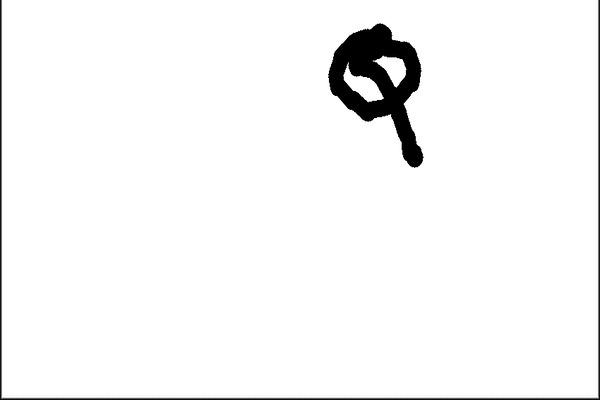Q: (319, 16, 432, 164)
